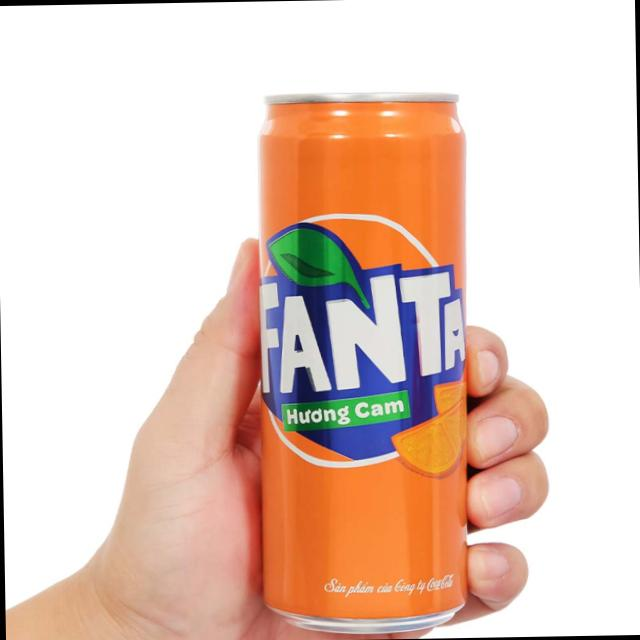fanta: (254, 81, 471, 635)
